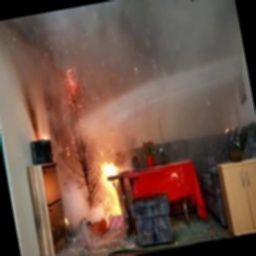fire: (81, 146, 133, 221)
